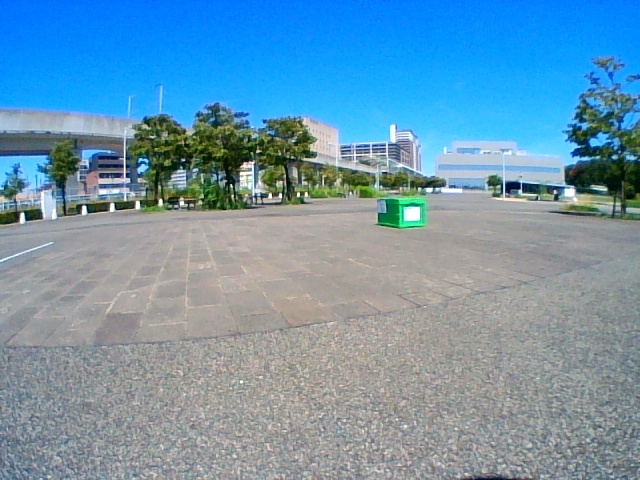green_box: (377, 198, 425, 228)
tag: (378, 200, 385, 213)
